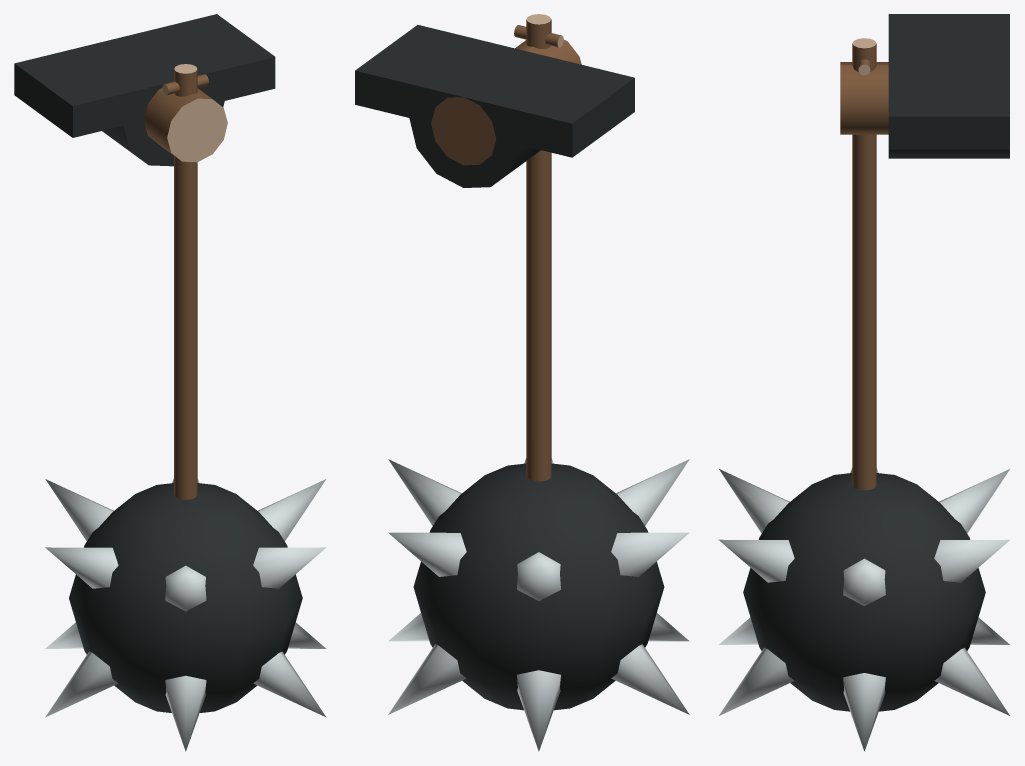
File: MaceTrap.fbx
The picture shows the model from 3 angles, left to right: view 1: azimuth 30°, elevation 25°; view 2: azimuth 150°, elevation 25°; view 3: azimuth 270°, elevation 25°; orthographic projection. The views are drawn at different scales.
Visible parts, largest first — view 1: Ball, RoofMount, WoodenRod, Group_6_5, Group_6_8, Group_6_9, Group_6_4, Group_6_7, Spike, Group_6_6, Group_6_3, Group_6_10 (+1 smaller); view 2: Ball, RoofMount, WoodenRod, Group_6_2, Group_6_8, Group_6_11, Group_6_4, Group_6_1, Group_6_3, Spike, Group_6_6, Group_6_9 (+1 smaller); view 3: Ball, RoofMount, WoodenRod, Group_6_10, Group_6_2, Group_6_5, Group_6_1, Group_6_7, Group_6_3, Group_6_6, Spike, Group_6_9 (+1 smaller).
Part boxes in pixels (box(x1,y1,x2,y2)): Ball: box(69, 483, 302, 712); RoofMount: box(14, 14, 275, 166); WoodenRod: box(143, 64, 227, 499); Group_6_5: box(253, 547, 326, 588); Group_6_8: box(45, 547, 118, 588); Group_6_9: box(165, 675, 206, 751); Group_6_4: box(45, 651, 118, 717); Group_6_7: box(253, 651, 326, 717); Spike: box(258, 479, 325, 541); Group_6_6: box(45, 479, 113, 541); Group_6_3: box(165, 565, 206, 611); Group_6_10: box(288, 622, 326, 648); Ball: box(413, 463, 664, 710); RoofMount: box(355, 25, 634, 187); WoodenRod: box(431, 14, 581, 481); Group_6_2: box(388, 532, 466, 576); Group_6_8: box(611, 532, 689, 576); Group_6_11: box(517, 670, 560, 751); Group_6_4: box(611, 644, 689, 714); Group_6_1: box(388, 644, 466, 714); Group_6_3: box(616, 459, 689, 525); Spike: box(388, 459, 461, 525); Group_6_6: box(517, 552, 560, 600); Group_6_9: box(648, 613, 689, 641); Ball: box(743, 473, 985, 711); RoofMount: box(888, 14, 1009, 158); WoodenRod: box(840, 38, 888, 490); Group_6_10: box(843, 673, 885, 751); Group_6_2: box(934, 539, 1010, 582); Group_6_5: box(718, 539, 794, 582); Group_6_1: box(934, 647, 1009, 715); Group_6_7: box(719, 647, 794, 715); Group_6_3: box(719, 469, 789, 533); Group_6_6: box(939, 469, 1009, 533); Spike: box(843, 558, 885, 605); Group_6_9: box(719, 617, 758, 644).
Size of the model in its own units: 2780 by 5993 by 2408.
